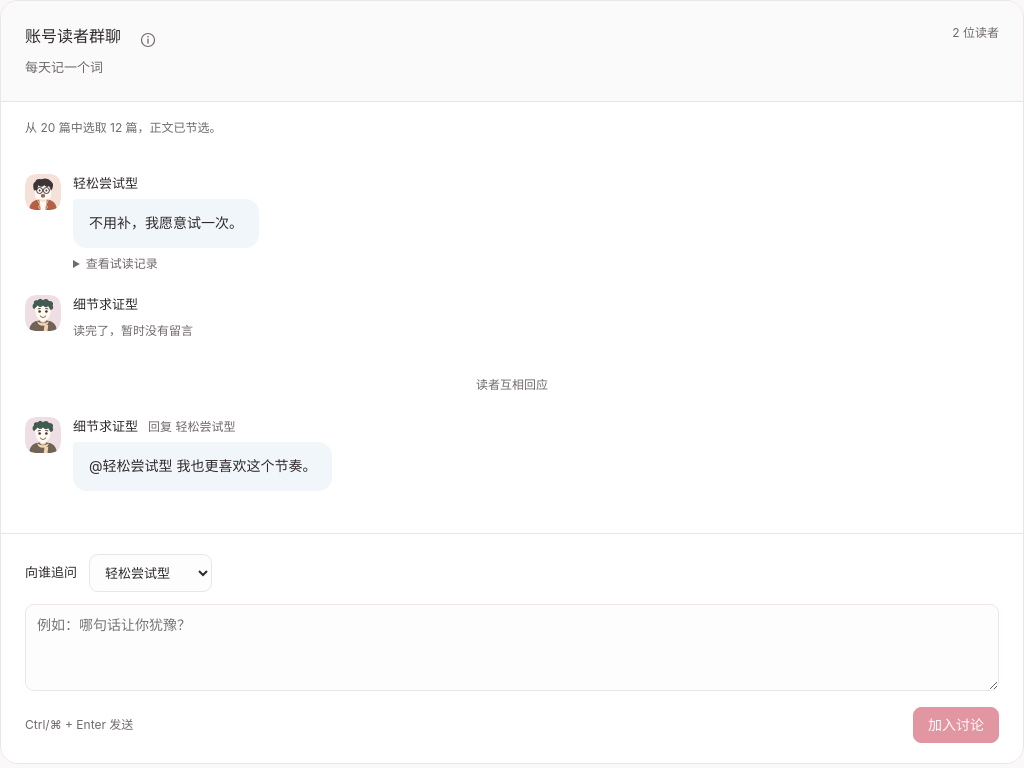
keeps sampled account coverage visible and reveals only the general discussion explanation on demand
Expected: the heading "账号读者群聊" is shown, [25,23,121,49]
Expected: the text "从 20 篇中选取 12 篇，正文已节选。" is shown, [25,120,222,135]
Hover over the button named "讨论范围说明" at [148, 40], box [135,27,161,53]
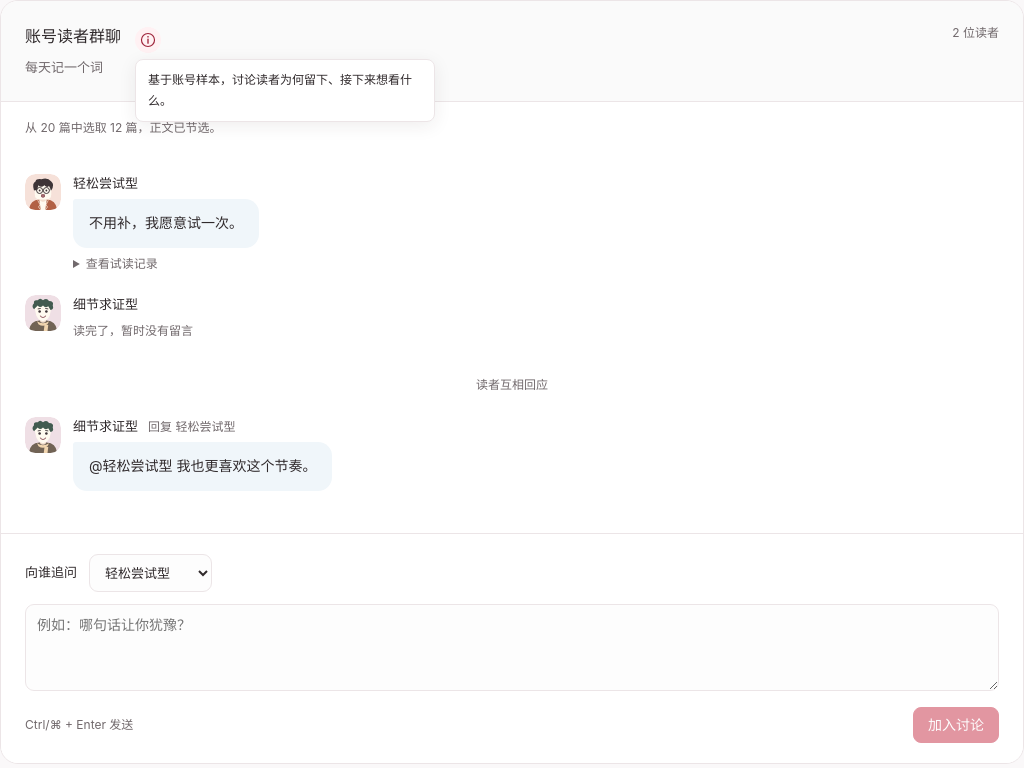
Expected: the text "不用补，我愿意试一次。" is shown, [73,199,259,248]
Now the tooltip reads "基于账号样本，讨论读者为何留下、接下来想看什么。", box [148,72,412,108]
